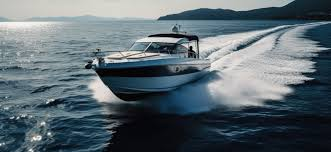boat: (86, 25, 212, 102)
